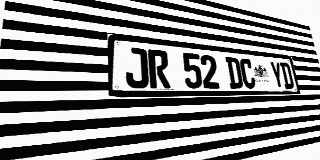2: (200, 54, 220, 88)
5: (182, 52, 203, 88)
C: (239, 58, 256, 88)
D: (225, 57, 244, 88), (280, 62, 295, 89)
J: (124, 47, 149, 88)
R: (147, 49, 171, 88)
Y: (269, 61, 285, 88)
